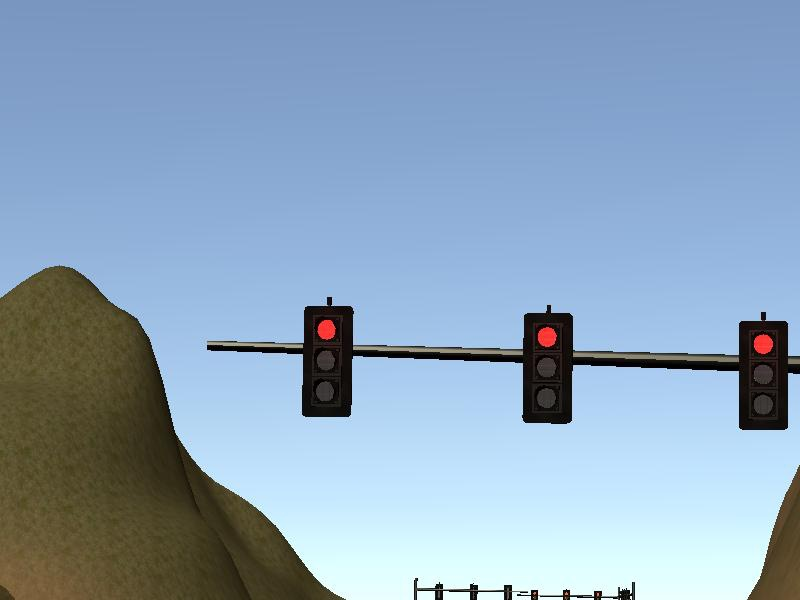red_light: (741, 324, 790, 430), (306, 309, 351, 416), (527, 314, 571, 420)
